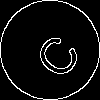C: (25, 25, 84, 82)
